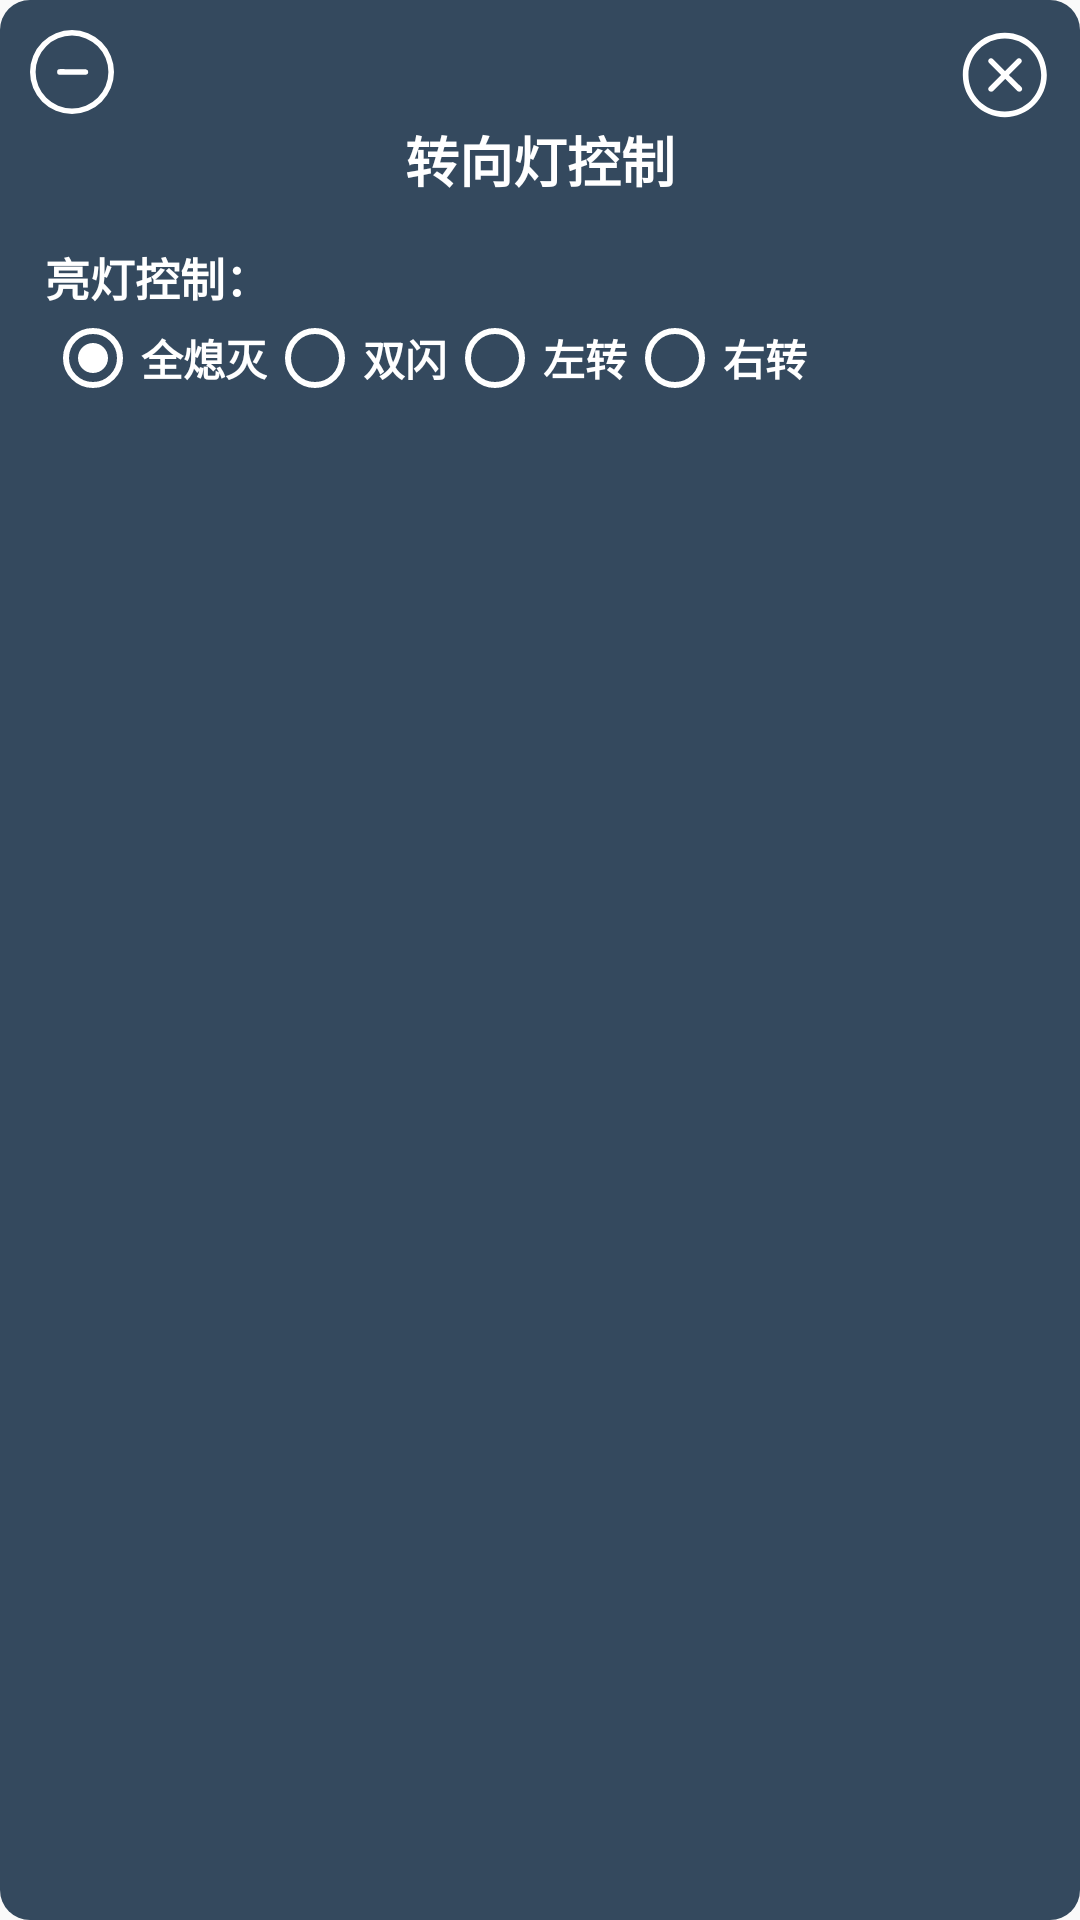

Icon bounding boxes for this 1080 x 1920 phone screenshot, format region(x1, y1, x2, y2):
minimize: region(30, 30, 114, 114)
关闭悬浮窗: region(962, 32, 1047, 118)
